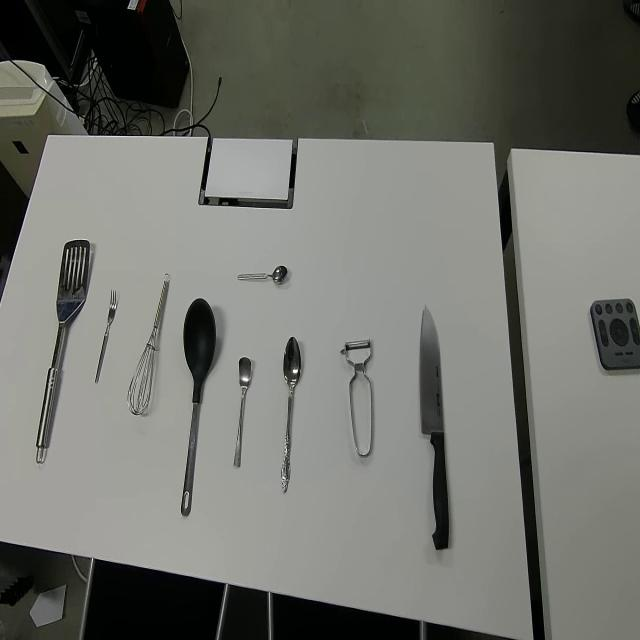Desert-Spoon: (280, 335, 302, 496)
Dinner-Fork: (94, 288, 118, 387)
Kitchen-Knife: (418, 304, 450, 553)
Peeler: (339, 338, 374, 460)
Serving-Spoon: (34, 238, 90, 466), (180, 294, 218, 518)
Tea-Spoon: (232, 356, 252, 470), (236, 261, 289, 285)
Whisk: (127, 272, 170, 416)
